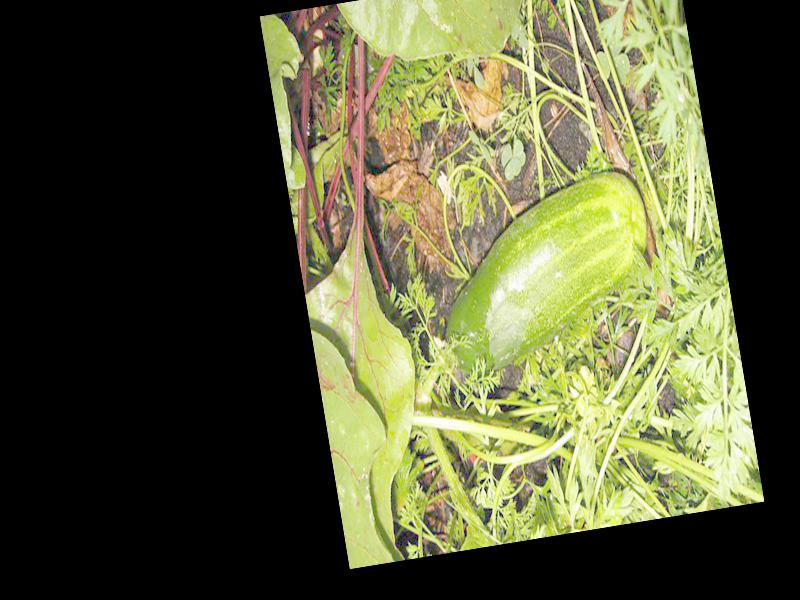Cucumber: (423, 166, 664, 386)
